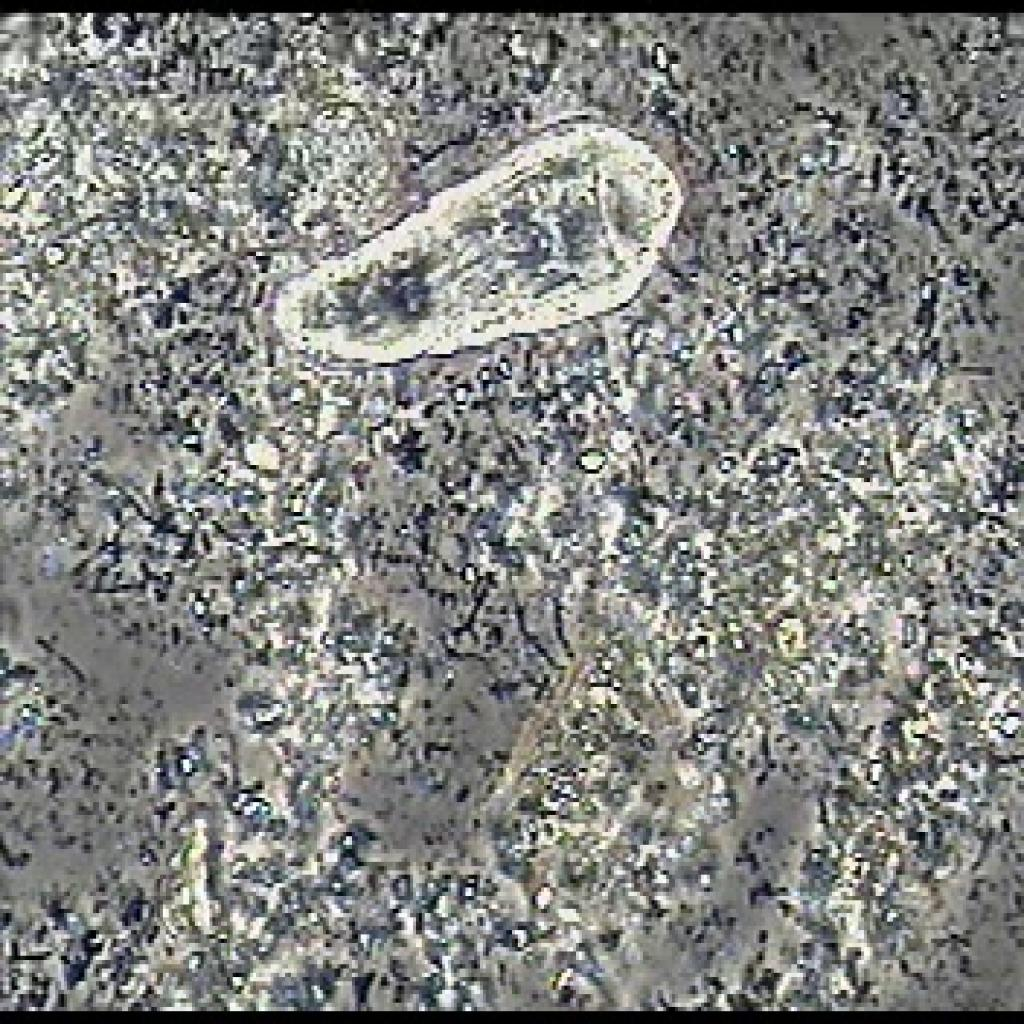Rotatoria: (258, 96, 702, 437)
